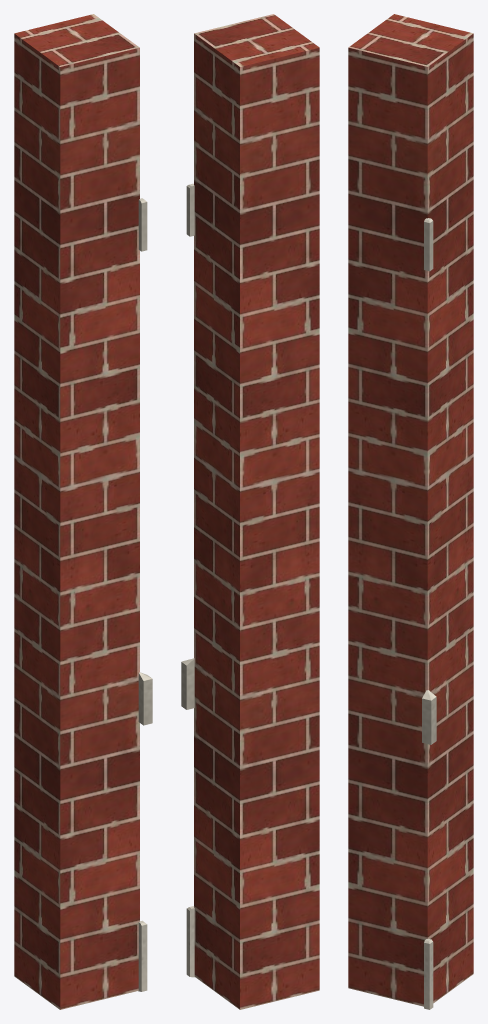
Rendered from corner_u.glb.
The picture shows the model from 3 angles, left to right: view 1: azimuth 30°, elevation 25°; view 2: azimuth 210°, elevation 25°; view 3: azimuth 330°, elevation 25°; orthographic projection.
Visible parts, largest first — view 1: corner_u_brick, corner_u_precast; view 2: corner_u_brick, corner_u_precast; view 3: corner_u_brick, corner_u_precast.
Boxes of the visible parts, bbox=[...] form: corner_u_brick: bbox=[14, 14, 139, 1009]; corner_u_precast: bbox=[138, 198, 152, 991]; corner_u_brick: bbox=[194, 14, 319, 1009]; corner_u_precast: bbox=[181, 183, 194, 977]; corner_u_brick: bbox=[348, 14, 473, 1006]; corner_u_precast: bbox=[422, 218, 436, 1009].
Size of the model in its own units: 0.331 by 3.4 by 0.331.
Materials: 2 (2 with a texture image).
